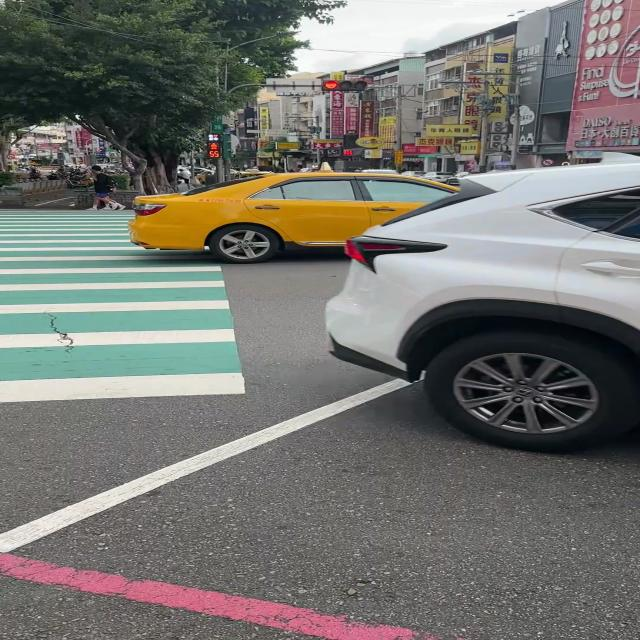car: (324, 160, 640, 451), (128, 165, 457, 262)
crosswalk: (0, 208, 247, 405)
pedestrian: (90, 165, 124, 210)
